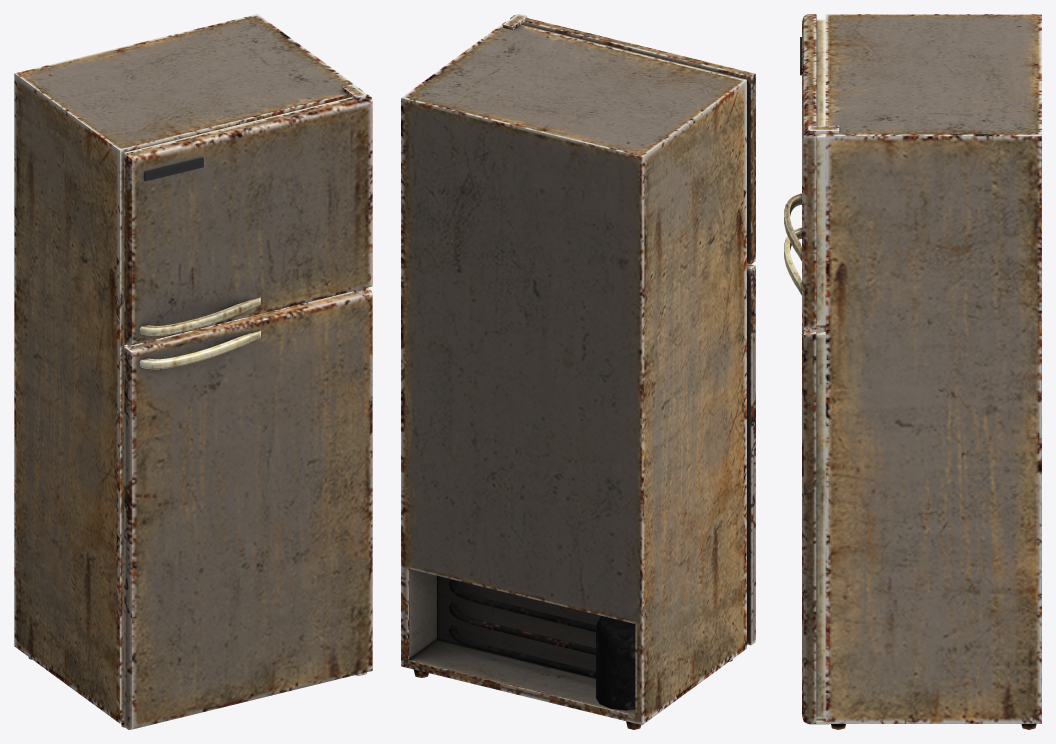
Rendered from fridge.fbx.
3 views of the same model, side by side, from view 1: azimuth 30°, elevation 25°; view 2: azimuth 150°, elevation 25°; view 3: azimuth 270°, elevation 25° (orthographic). The views are drawn at different scales.
Visible parts, largest first — view 1: fridge; view 2: fridge; view 3: fridge.
Boxes of the visible parts, box(x1,y1,x2,y2) form: fridge: box(14, 14, 372, 729); fridge: box(401, 14, 755, 729); fridge: box(784, 14, 1041, 729).
Bounding box in the file's own units: 80 × 184 × 71.5.
